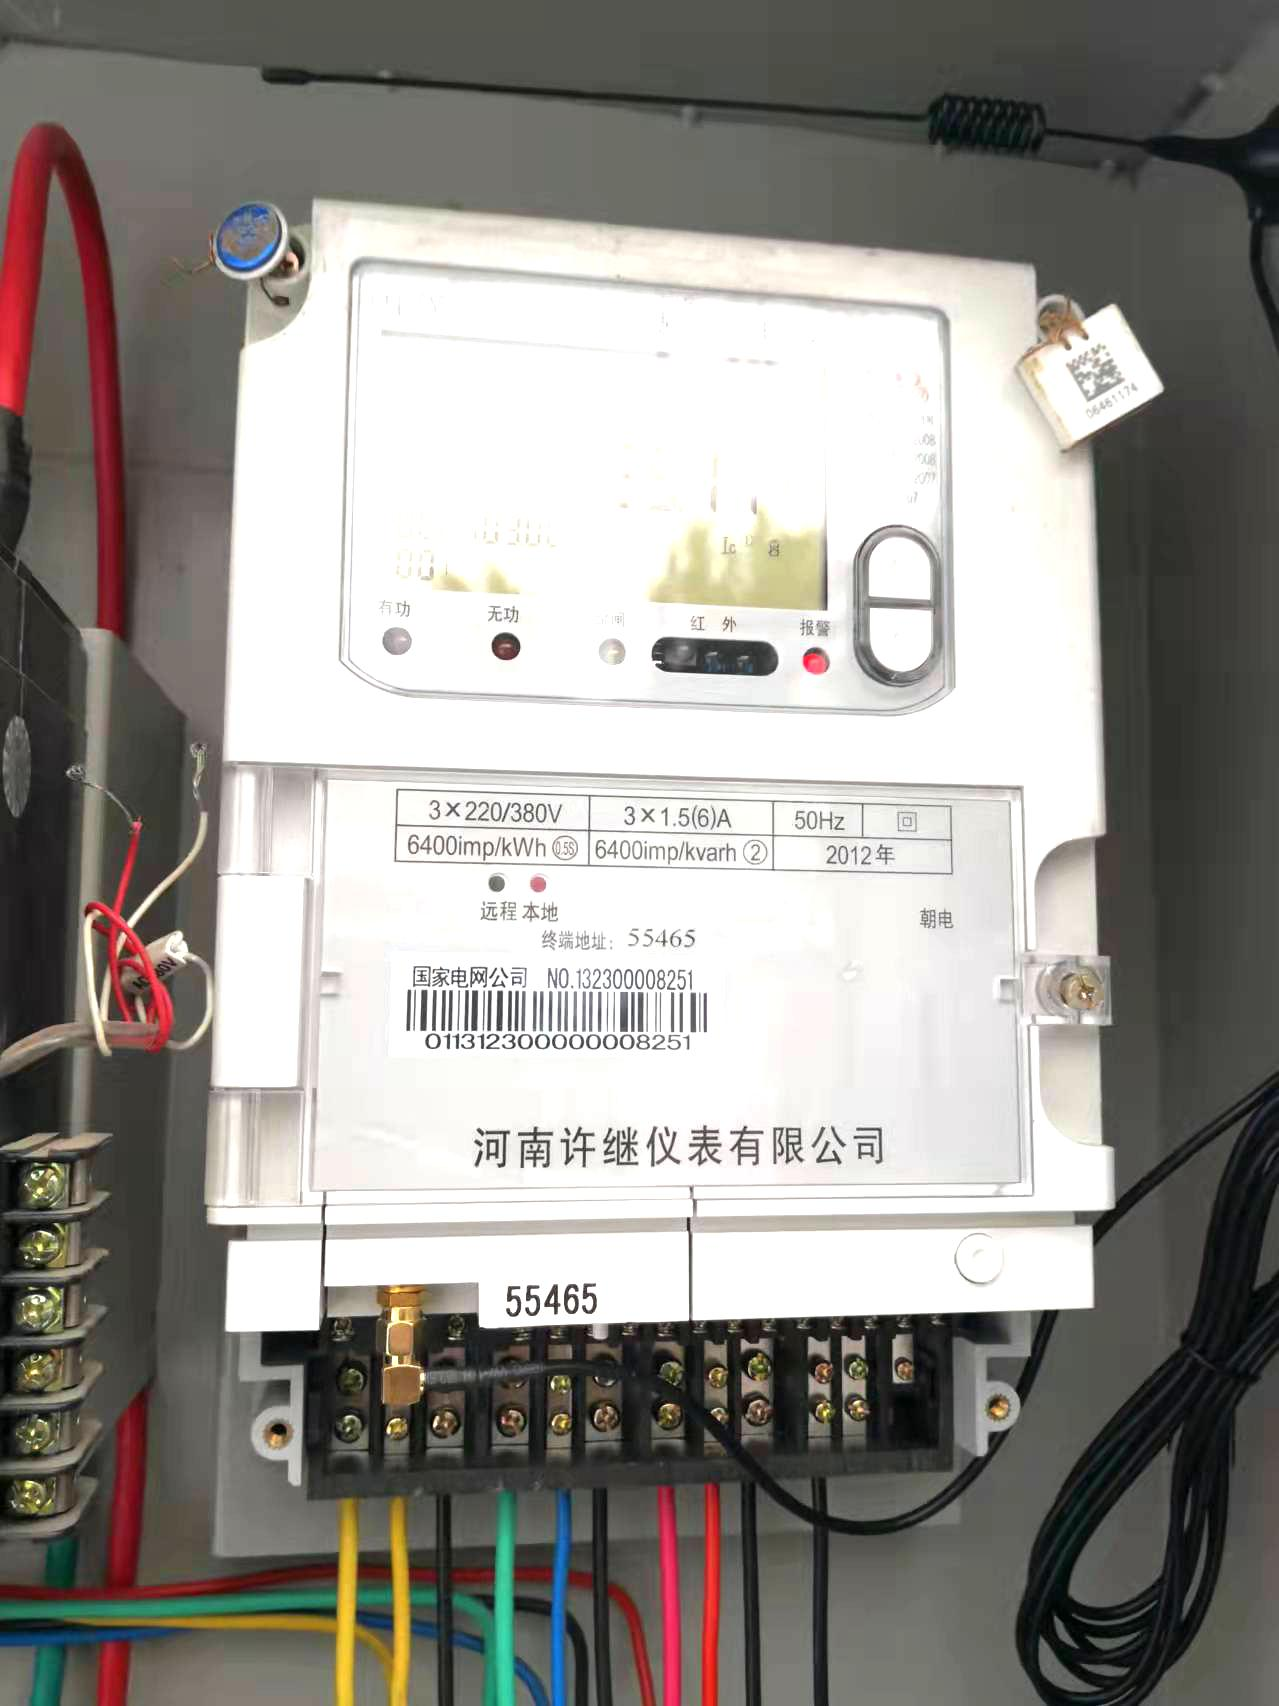digital: (210, 199, 1114, 1224)
